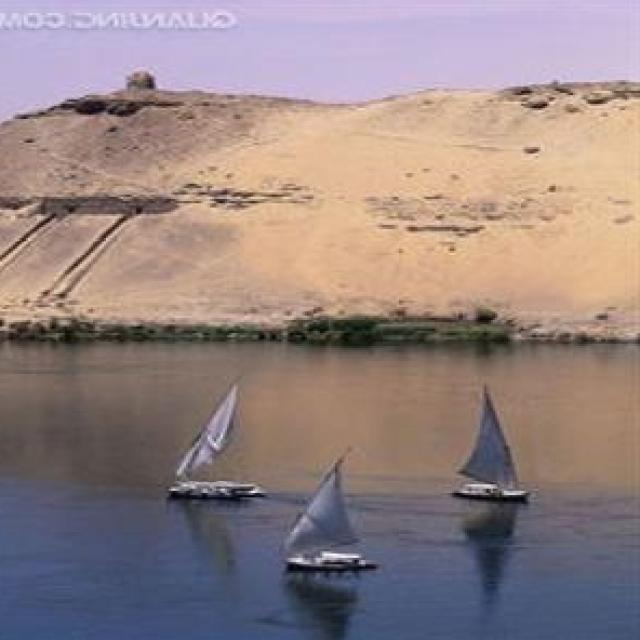sailboat: (166, 373, 266, 503), (287, 440, 379, 570), (453, 380, 534, 498)
